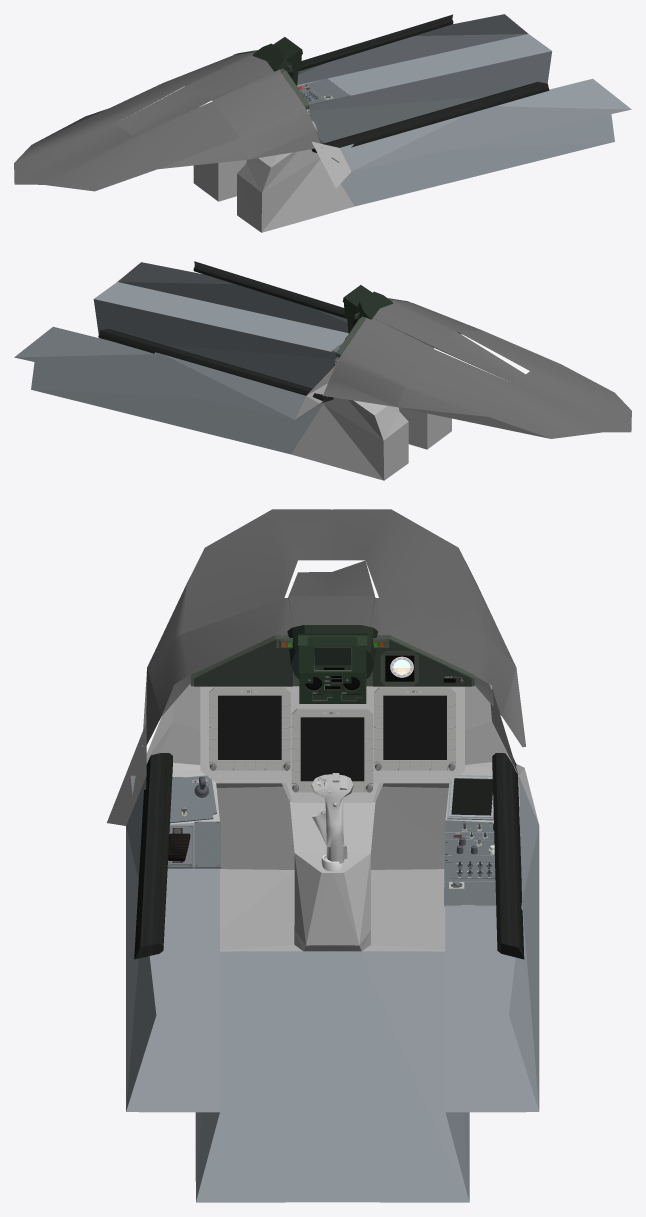
3 renders of one model, top to bottom at view 1: azimuth 30°, elevation 25°; view 2: azimuth 150°, elevation 25°; view 3: azimuth 270°, elevation 25°, orthographic. The views are drawn at different scales.
Parts seen in each view (by area): view 1: CockpitTub, Glareshield, Rails, HeadUpPanel, Panel; view 2: CockpitTub, Glareshield, Rails, HeadUpPanel; view 3: CockpitTub, Glareshield, Cube (×3), Rails, Fascia_Panel, subsystems (×2), HeadUpPanel, Panel, Handle, HUPDisplay, MidLeftPanel, DWPscreen.off (+3 smaller).
Part boxes in pixels (box(x1,y1,x2,y2)): CockpitTub: box(193, 14, 631, 232); Glareshield: box(14, 52, 322, 191); Rails: box(298, 14, 549, 152); HeadUpPanel: box(252, 37, 302, 85); Panel: box(298, 78, 351, 105); CockpitTub: box(14, 262, 451, 480); Glareshield: box(322, 300, 631, 438); Rails: box(98, 261, 347, 402); HeadUpPanel: box(342, 285, 393, 333); CockpitTub: box(107, 684, 539, 1202); Glareshield: box(142, 509, 525, 747); Cube (×3): box(209, 687, 455, 792); Rails: box(134, 753, 524, 959); Fascia_Panel: box(200, 686, 464, 802); subsystems (×2): box(194, 639, 471, 686); HeadUpPanel: box(287, 625, 377, 700); Panel: box(444, 820, 520, 907); Handle: box(311, 773, 353, 863); HUPDisplay: box(299, 673, 366, 703); MidLeftPanel: box(130, 775, 216, 823); DWPscreen.off: box(451, 778, 492, 815).
Bounding box in the file's own units: 3.01 × 0.7589 × 0.996.
32 materials, 29 textured.
